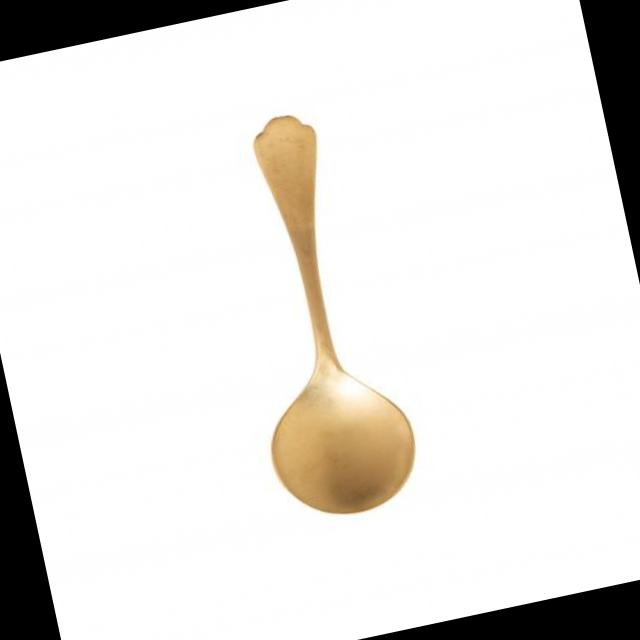spoon: (191, 89, 432, 537)
